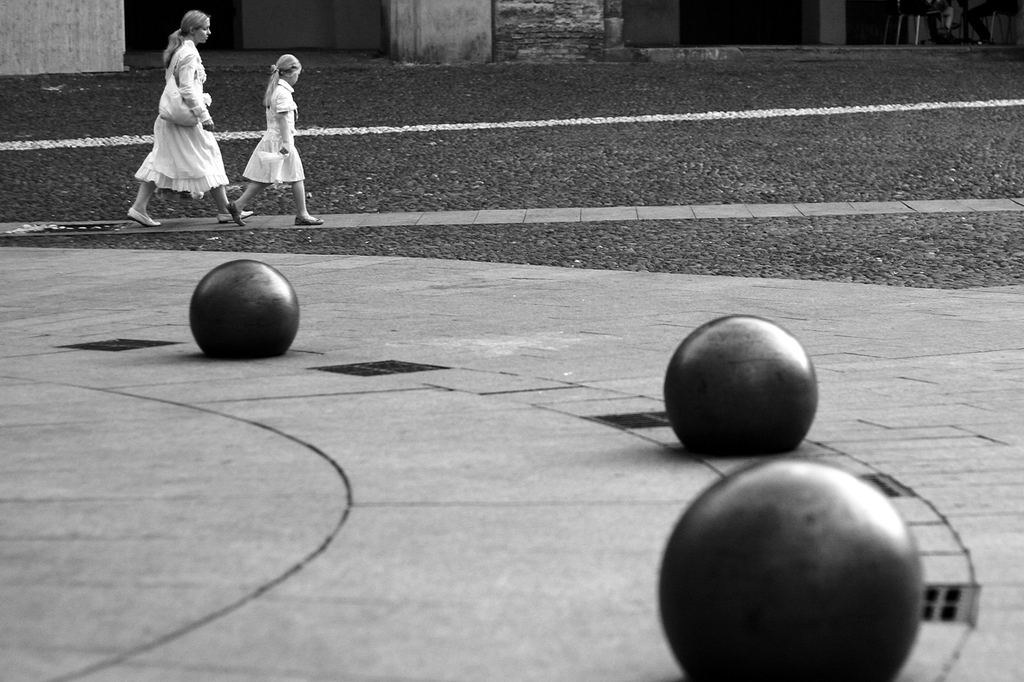Person: (126, 11, 257, 225), (224, 54, 323, 226)
